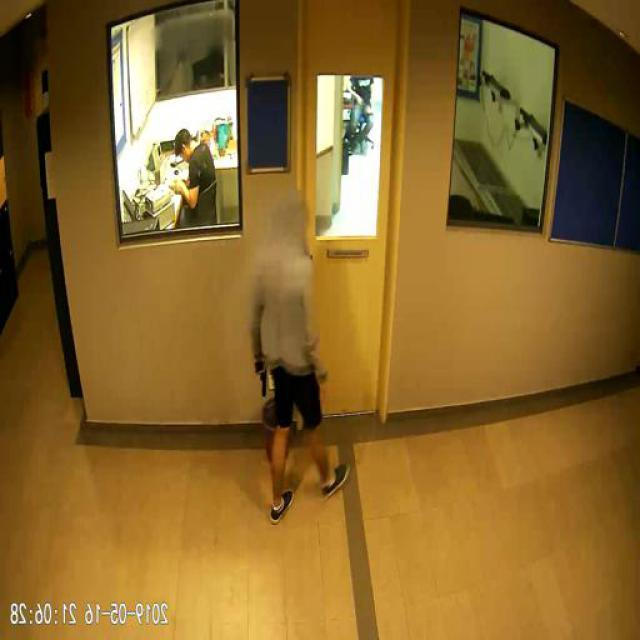Gun: (256, 354, 269, 395)
